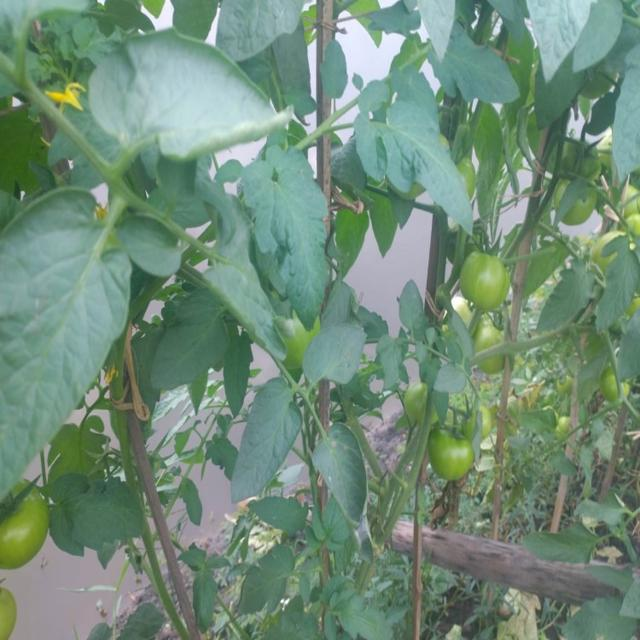tomato: (1, 478, 46, 567), (459, 249, 514, 310), (429, 427, 481, 484), (574, 134, 603, 184), (403, 384, 432, 427), (571, 192, 597, 228), (591, 228, 628, 250), (479, 318, 507, 346), (1, 587, 19, 627), (556, 371, 579, 397), (603, 376, 621, 407), (483, 360, 513, 375), (558, 413, 573, 442), (628, 213, 640, 237)
